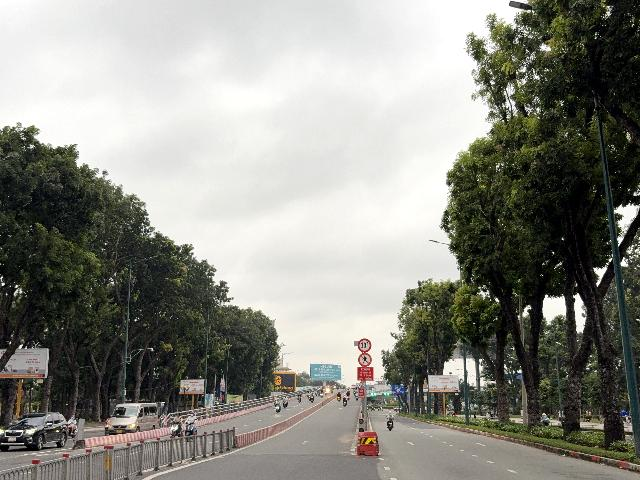cam-nguoi-di-bo: (358, 352, 372, 367)
han-che-trong-luong-xe: (358, 338, 372, 352)
